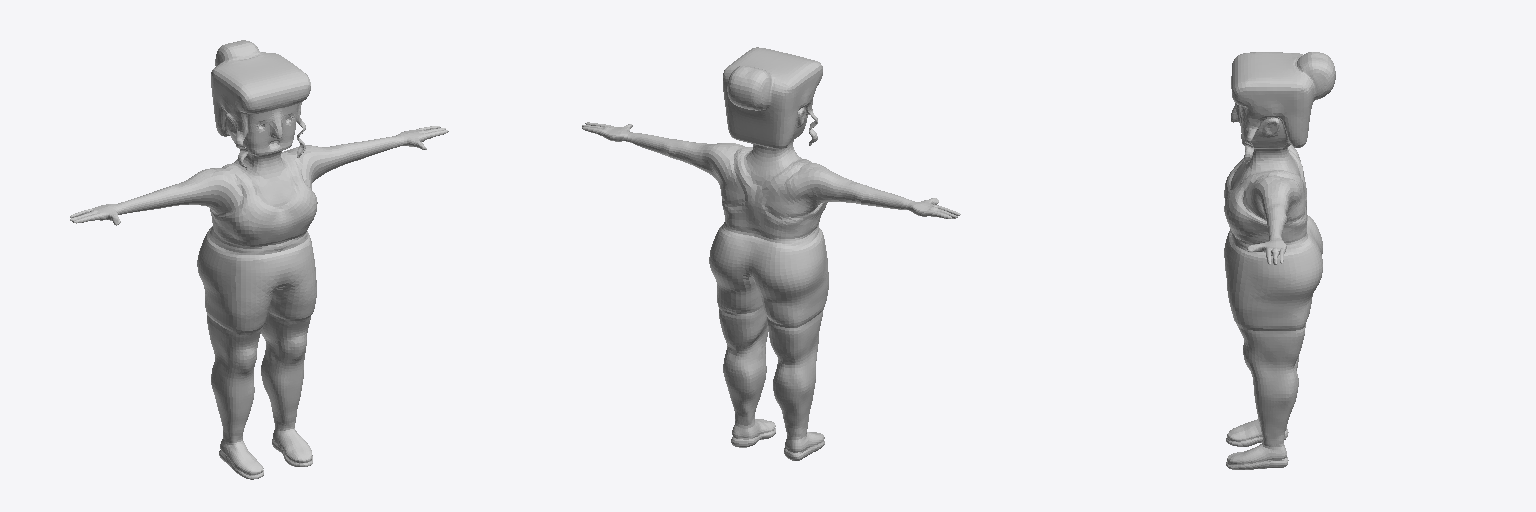
The model's file is human_geo.obj.
The picture shows the model from 3 angles: view 1: azimuth 30°, elevation 25°; view 2: azimuth 150°, elevation 25°; view 3: azimuth 270°, elevation 25°; orthographic projection.
Visible parts, largest first — view 1: Group42399; view 2: Group42399; view 3: Group42399.
Part boxes in pixels (left/top/right/bottom): Group42399: left=70, top=40, right=448, bottom=479; Group42399: left=582, top=47, right=960, bottom=460; Group42399: left=1224, top=52, right=1335, bottom=469.
Size of the model in its own units: 13.86 by 14.06 by 3.56.